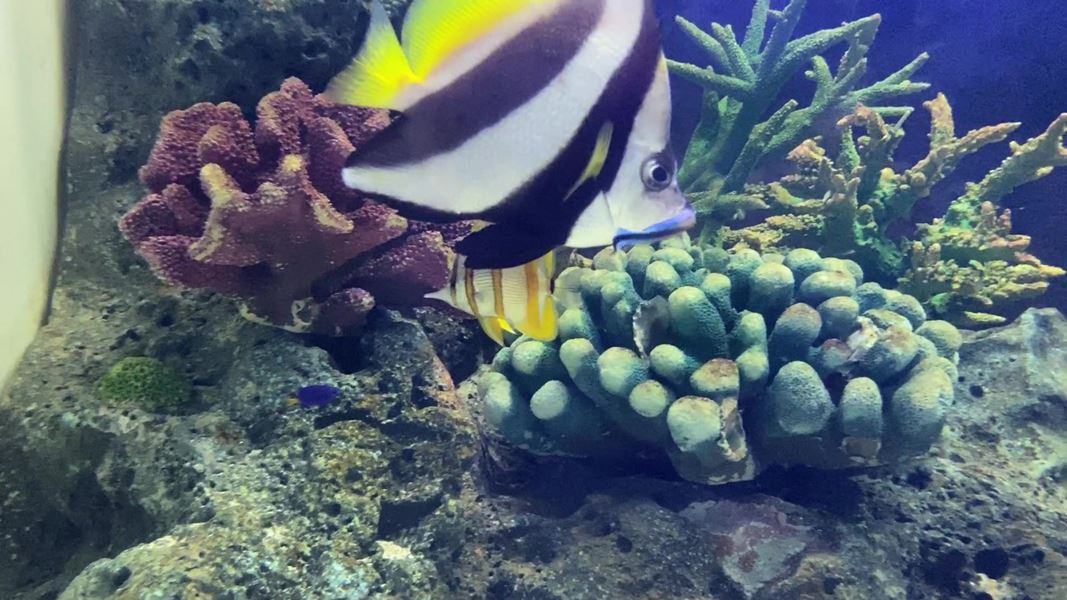Bluesteak cleaner wrasse: (597, 204, 709, 259)
